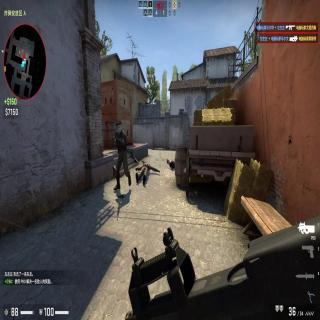T-Body: (114, 121, 132, 189)
T-Head: (116, 121, 122, 133)
